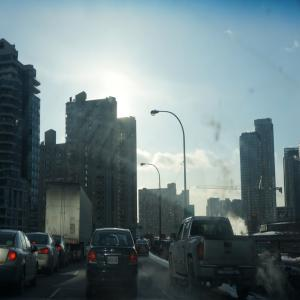Vehicle-registration-plate: (109, 256, 119, 266), (141, 247, 145, 249)
